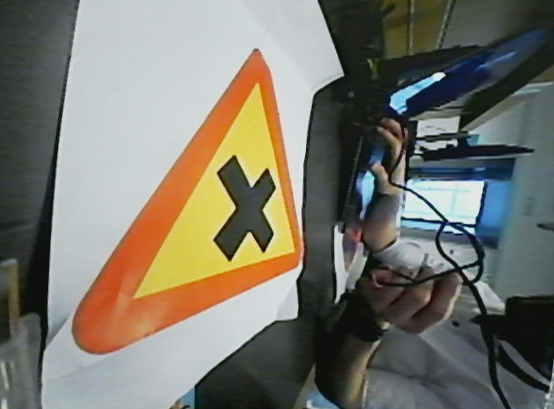junction: (68, 46, 306, 356)
